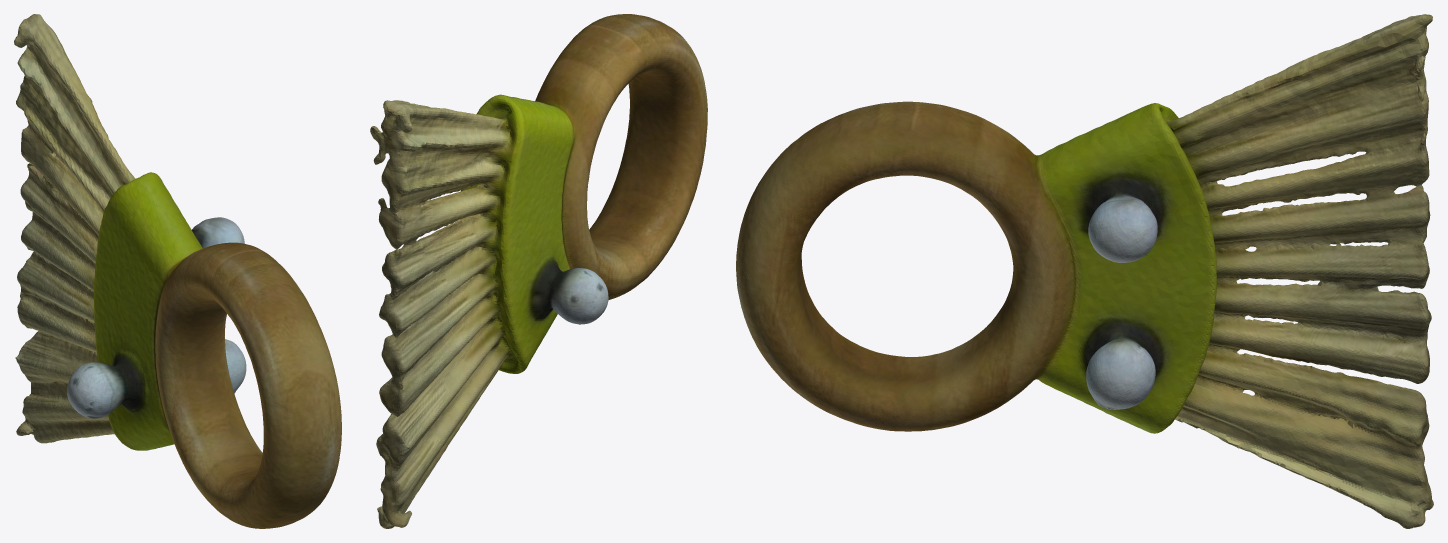
The model's file is mini_sweeper_visual.glb.
3 views of the same model, side by side, from view 1: azimuth 30°, elevation 25°; view 2: azimuth 150°, elevation 25°; view 3: azimuth 270°, elevation 25° (orthographic). The views are drawn at different scales.
Parts seen in each view (by area): view 1: minisweeper; view 2: minisweeper; view 3: minisweeper.
Part boxes in pixels (left/top/right/bottom): minisweeper: left=14, top=14, right=341, bottom=528; minisweeper: left=370, top=14, right=707, bottom=528; minisweeper: left=736, top=14, right=1433, bottom=528.
Size of the model in its own units: 0.0476 by 0.1139 by 0.1416.
Materials: 1 (1 with a texture image).
